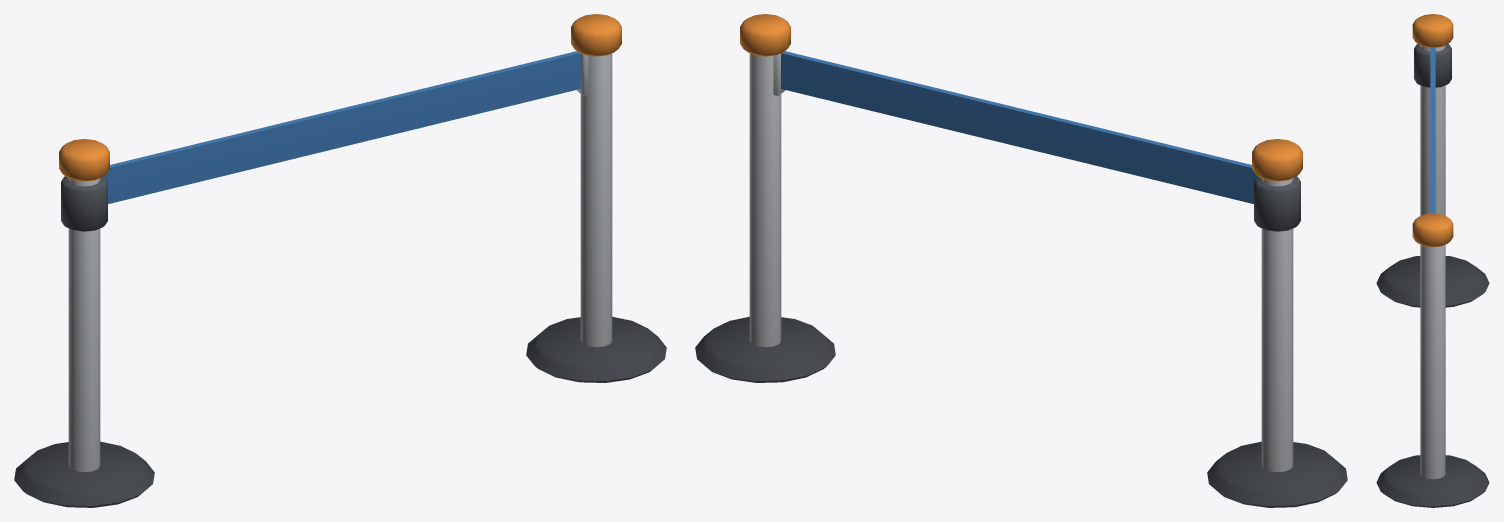
The model's file is QueuePost_Pair_01.glb.
3 views of the same model, side by side, from view 1: azimuth 30°, elevation 25°; view 2: azimuth 150°, elevation 25°; view 3: azimuth 270°, elevation 25° (orthographic). The views are drawn at different scales.
Visible parts, largest first — view 1: SM_QueuePost_Pair_01; view 2: SM_QueuePost_Pair_01; view 3: SM_QueuePost_Pair_01.
Boxes of the visible parts, x1=… form: SM_QueuePost_Pair_01: x1=14, y1=14, x2=666, y2=507; SM_QueuePost_Pair_01: x1=695, y1=14, x2=1347, y2=507; SM_QueuePost_Pair_01: x1=1376, y1=14, x2=1489, y2=507.
Bounding box in the file's own units: 1.86 × 0.93 × 0.36.
Materials: 1 (1 with a texture image).
